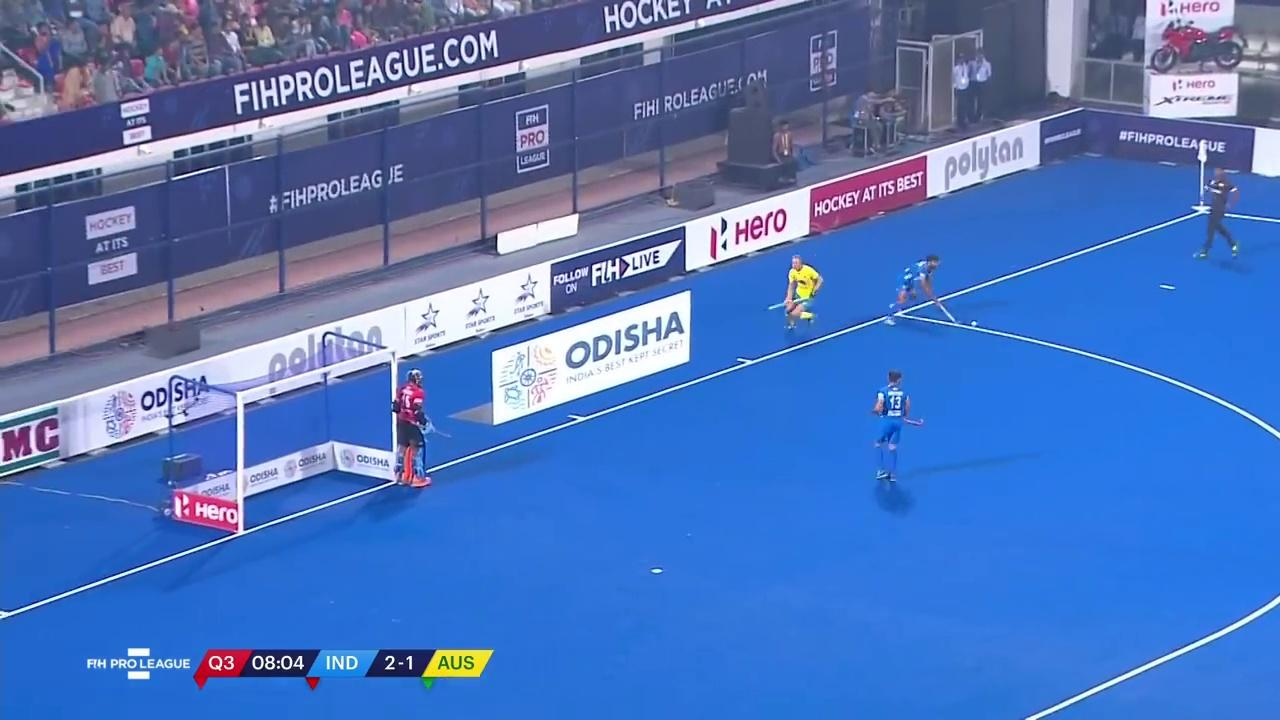ball: (965, 315, 981, 330)
